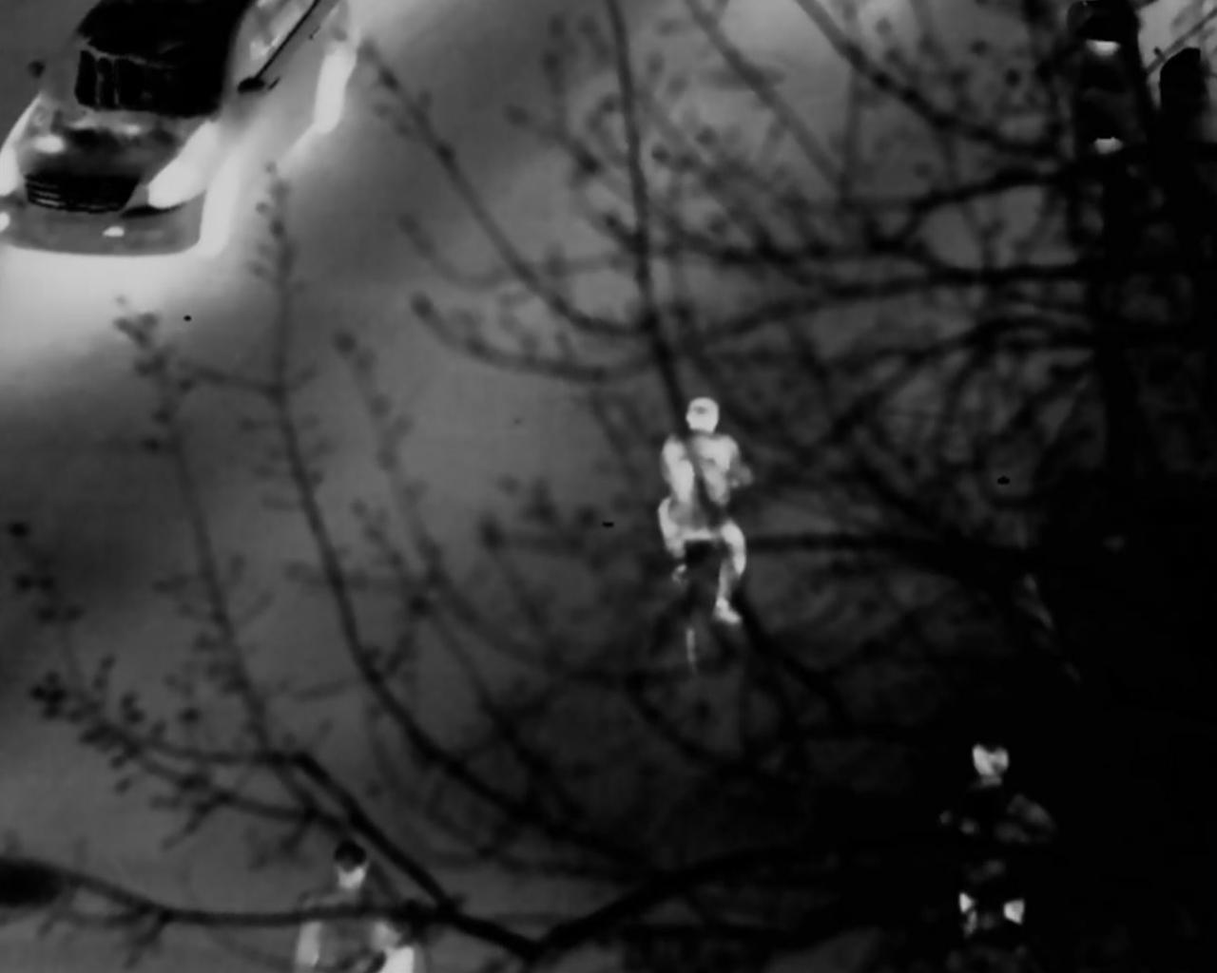person: (653, 396, 750, 641), (941, 731, 1055, 928), (290, 840, 427, 973)
